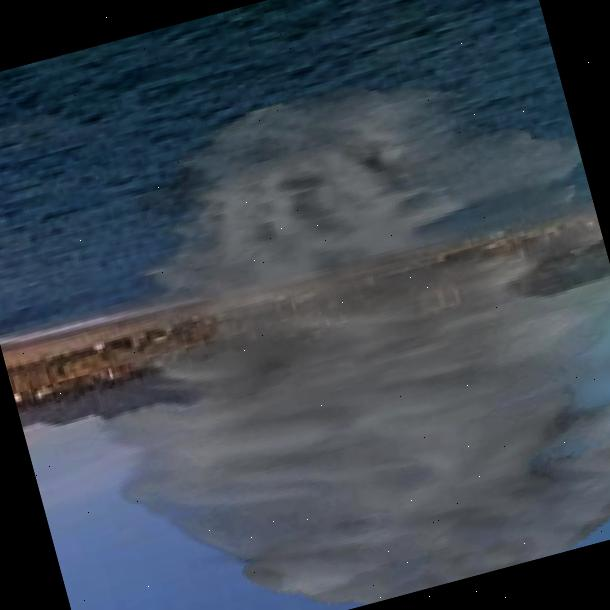smoke: (239, 163, 562, 562)
